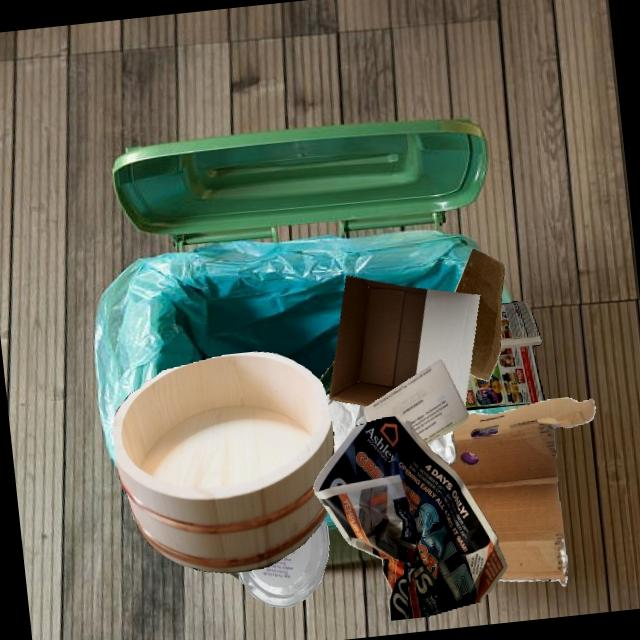biowaste: (319, 360, 334, 396)
cardboard: (449, 397, 595, 585), (328, 275, 479, 406), (454, 248, 505, 381)
combustible waste: (112, 351, 334, 573)
glass: (227, 571, 242, 582), (188, 566, 214, 572)
paper: (313, 416, 507, 620), (363, 359, 468, 444), (465, 301, 544, 410), (326, 392, 367, 453), (427, 430, 456, 465)
plastic: (237, 518, 329, 607)
